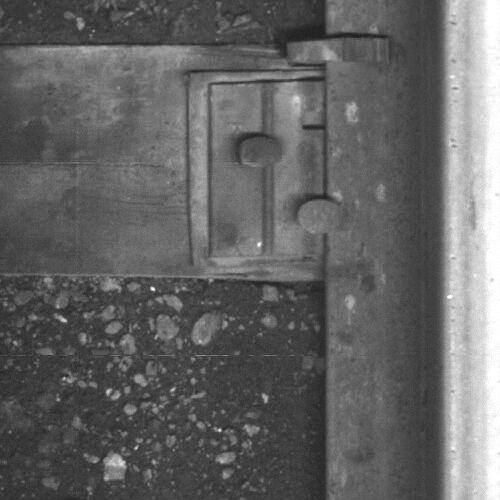crutch: (284, 33, 392, 65)
do: (204, 79, 339, 259)
rail: (440, 1, 500, 500)
tie_wood: (1, 44, 321, 280)
